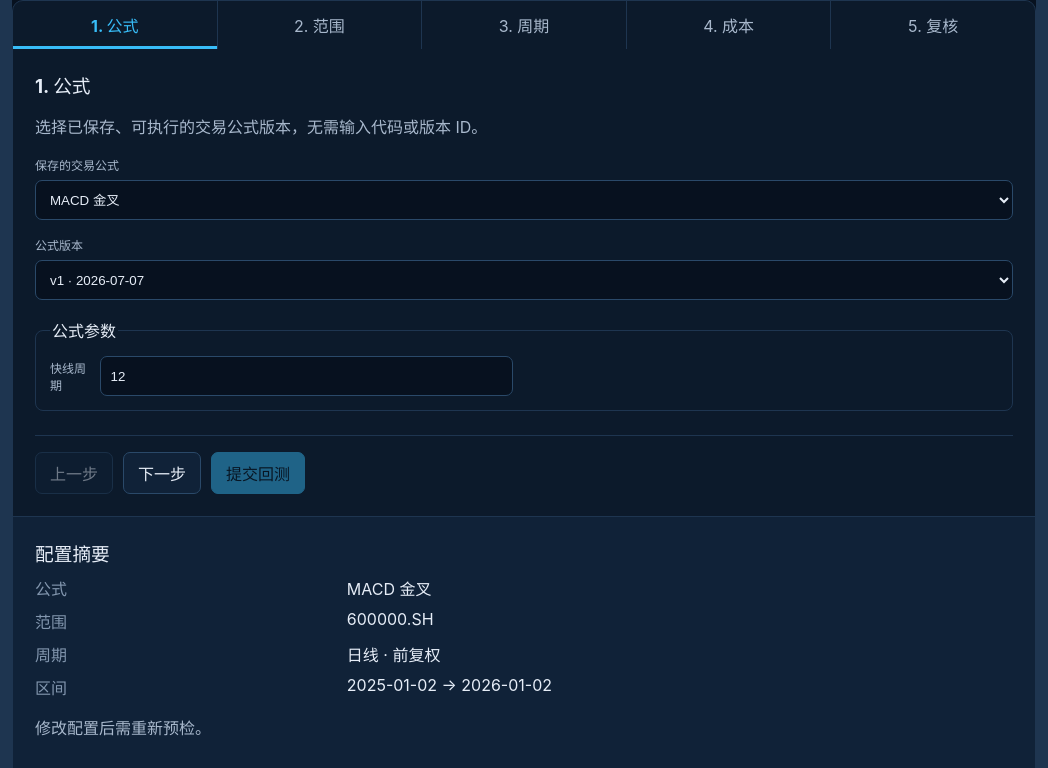
Test: keeps the BaoStock basic execution assumption visible after preflight
Click the button "5. 复核": {"x": 933, "y": 25} x1=831 y1=1 x2=1035 y2=49
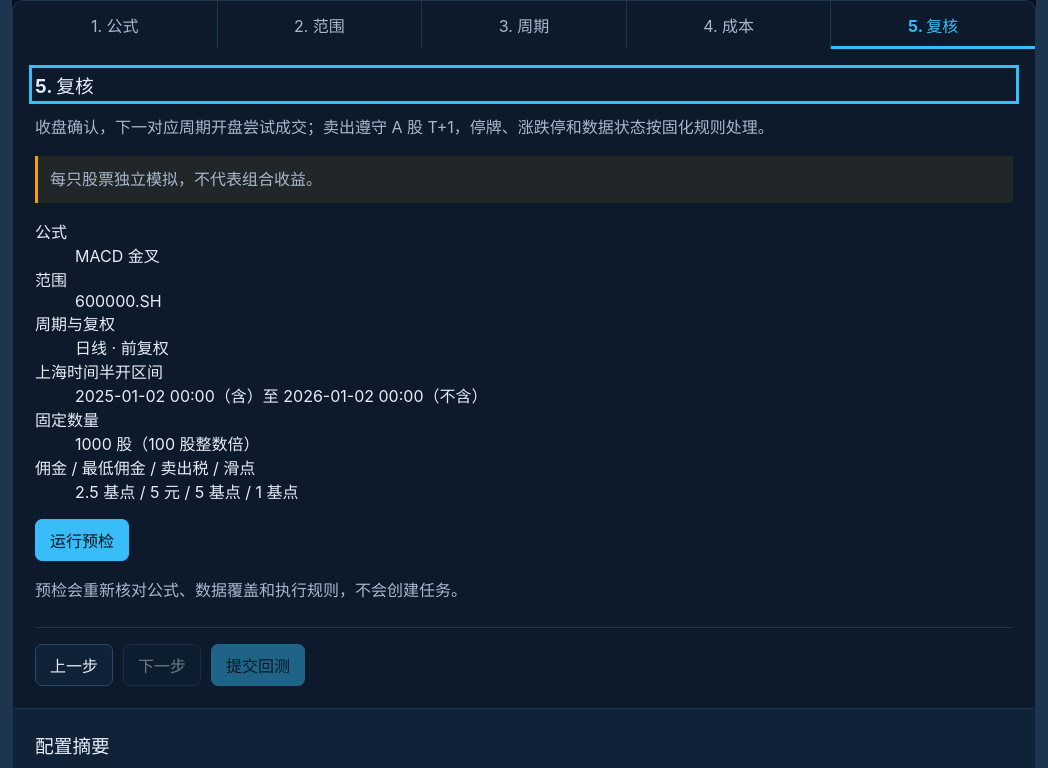
Click the button "运行预检": {"x": 82, "y": 540} x1=35 y1=519 x2=129 y2=561
(page scrolled)
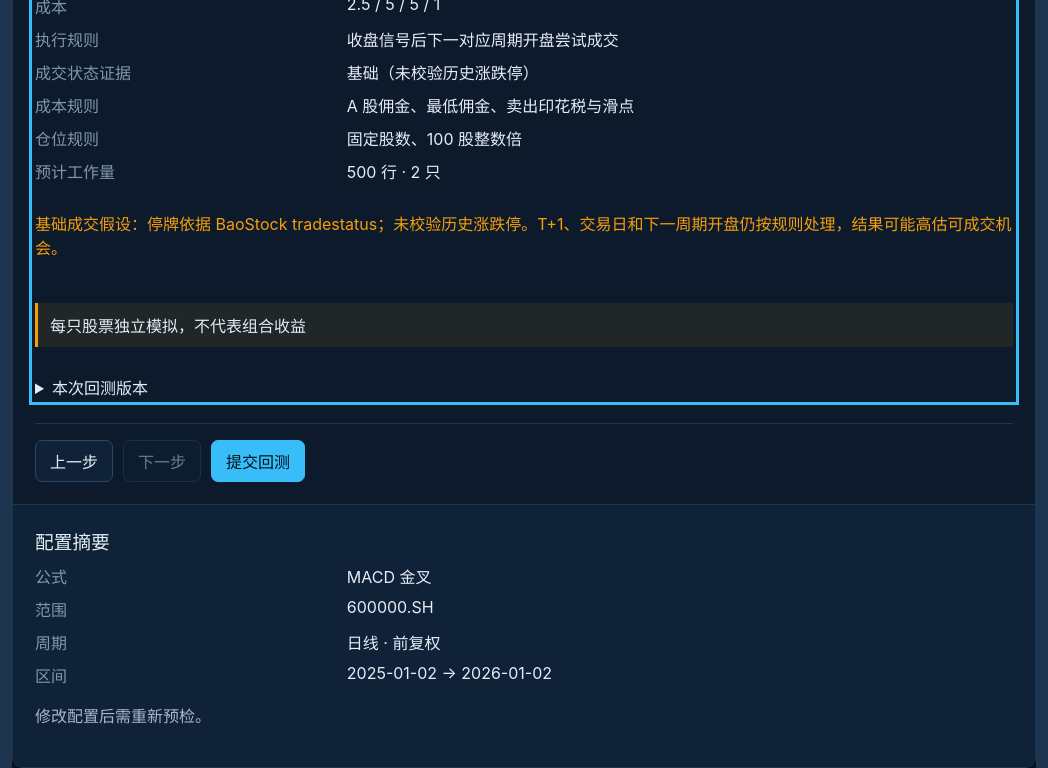
Check: the text "基础成交假设：停牌依据 BaoStock tradestatus" shows "未校验历史涨跌停。T+1、交易日和下一周期开盘仍按规则处理，结果可能高估可成交机会。", box x1=35 y1=214 x2=1011 y2=258
Check: the button "提交回测" is enabled, box x1=211 y1=440 x2=305 y2=482
